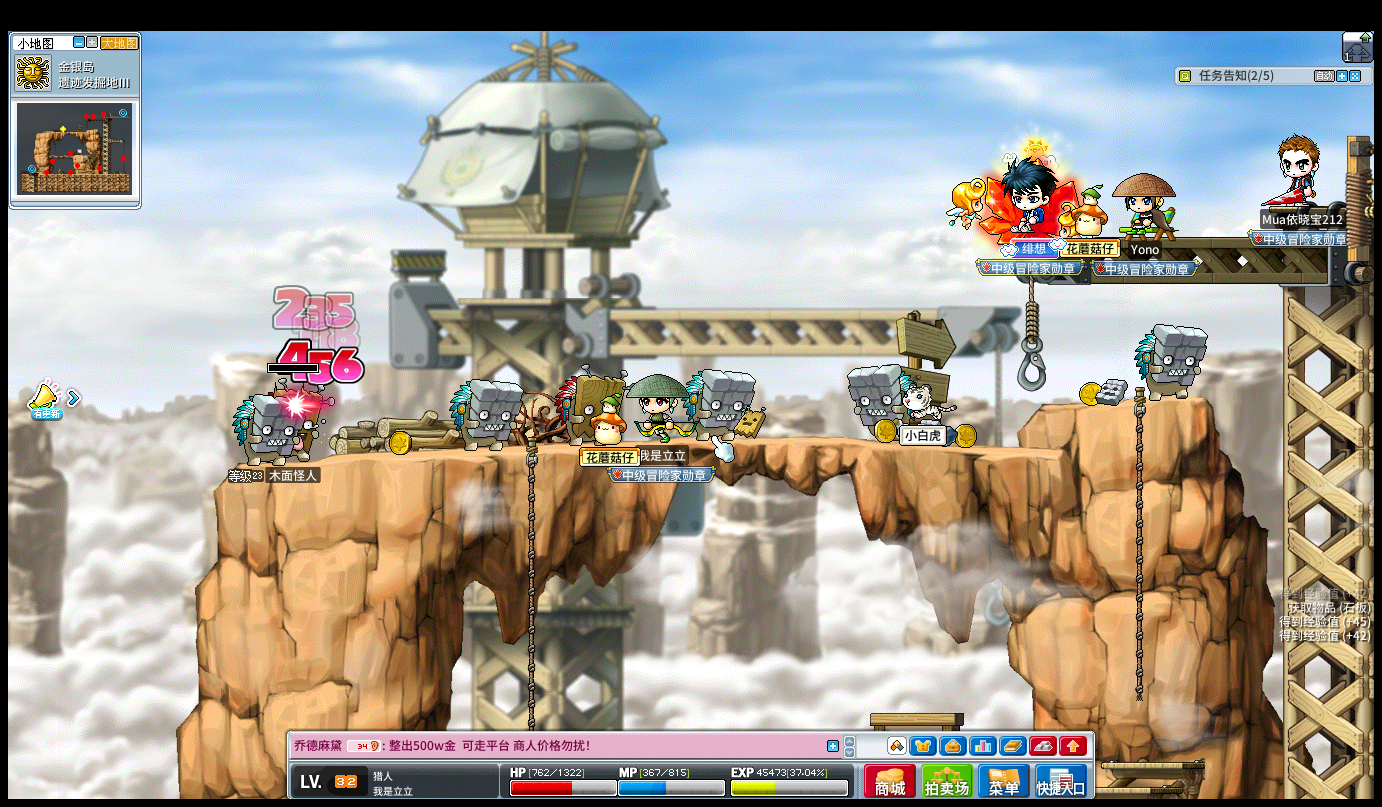floor: (164, 434, 1079, 456), (1040, 396, 1210, 413)
monster: (1133, 323, 1208, 402), (449, 378, 522, 454), (684, 367, 755, 441), (847, 363, 911, 443), (555, 367, 622, 442), (231, 393, 289, 464)
rope: (523, 433, 538, 789), (1131, 381, 1146, 705), (523, 431, 536, 694), (525, 435, 537, 660), (1131, 588, 1143, 701)
